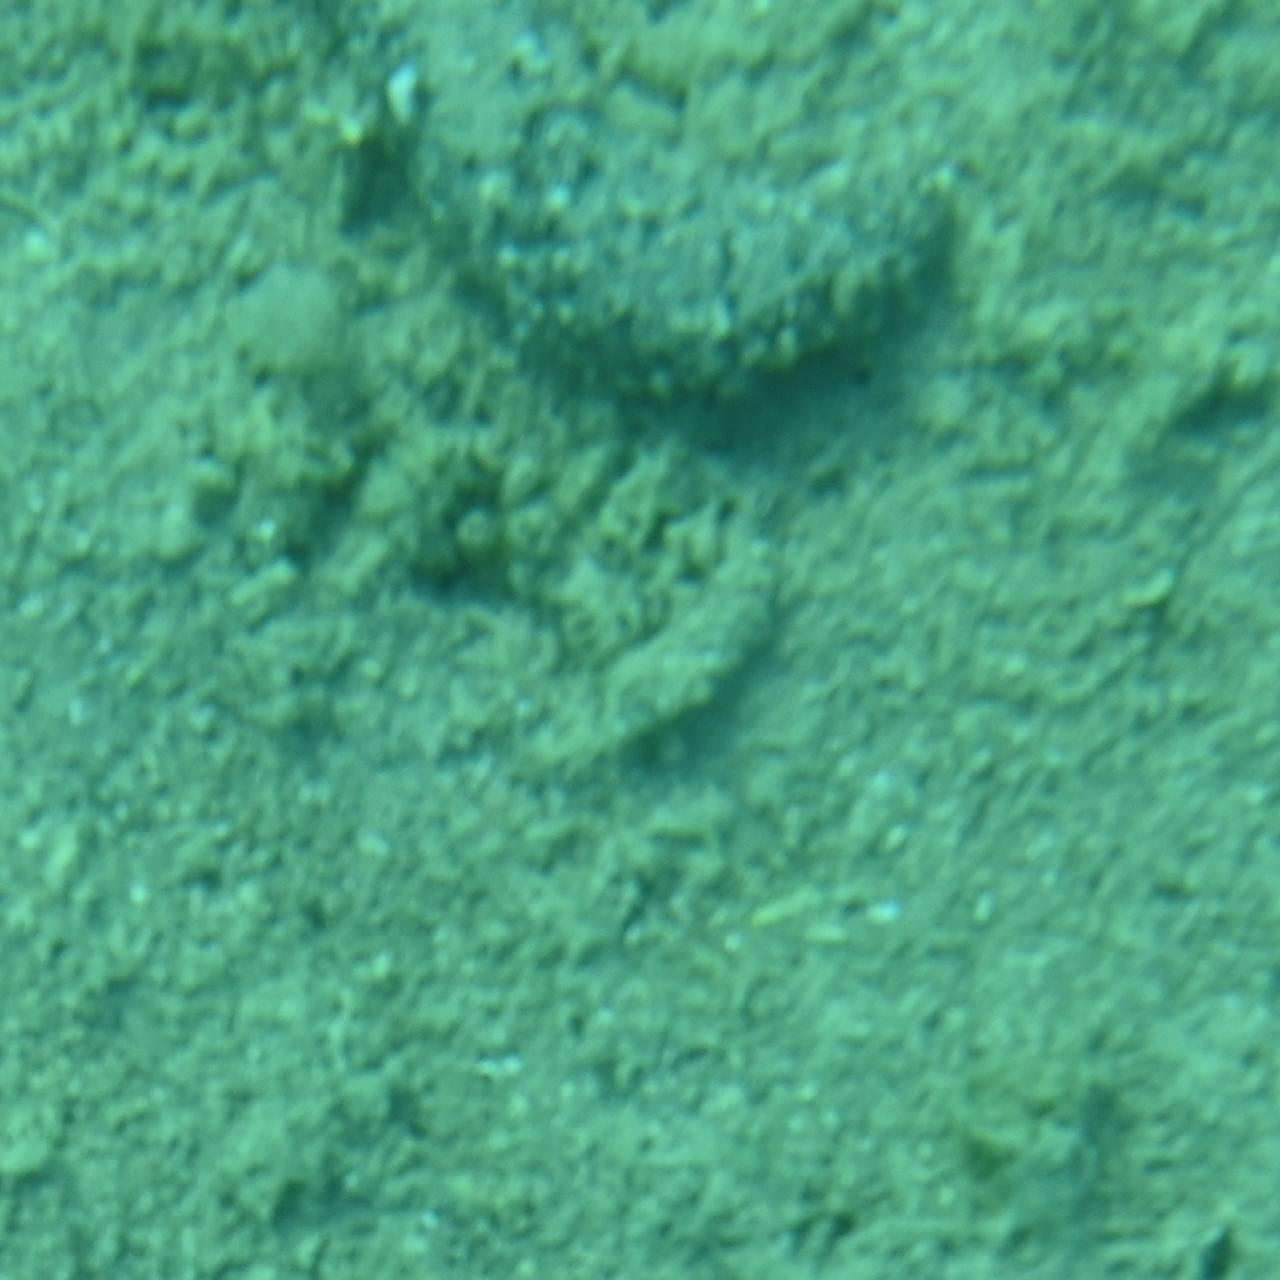Holothuria tubulosa: (298, 0, 982, 432)
